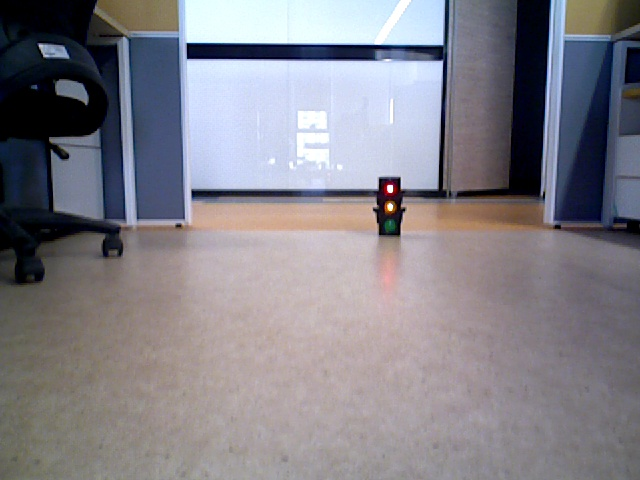red: (378, 181, 400, 234)
